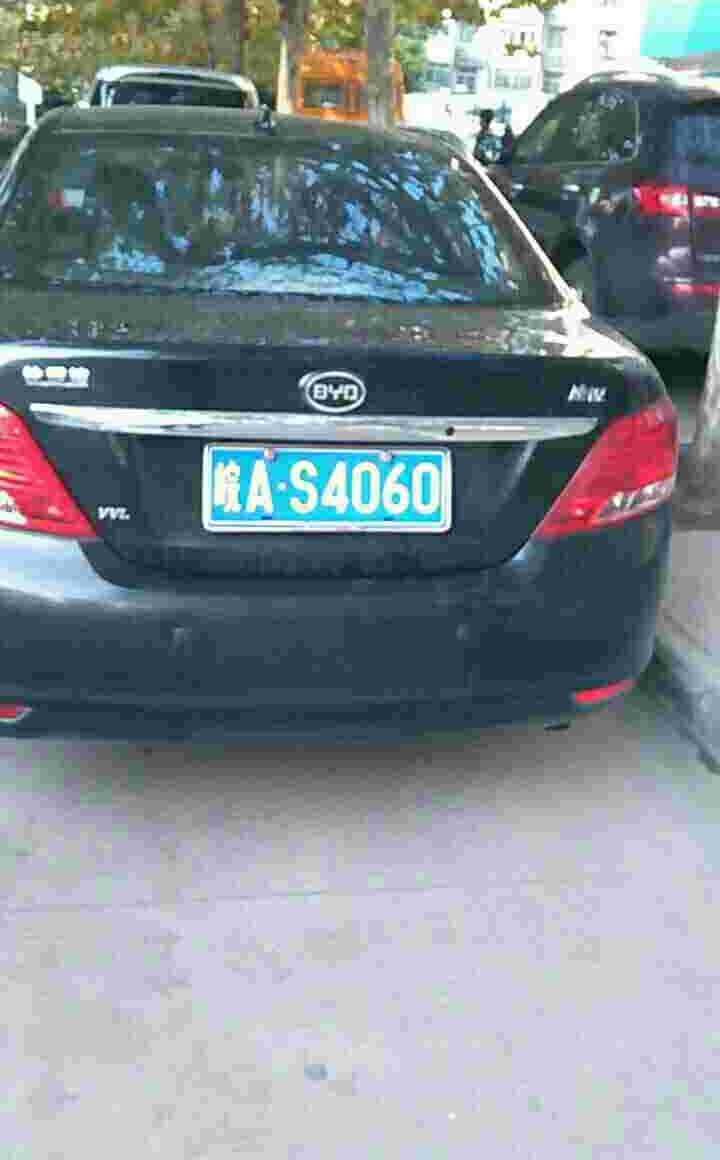plate: (210, 443, 454, 531)
